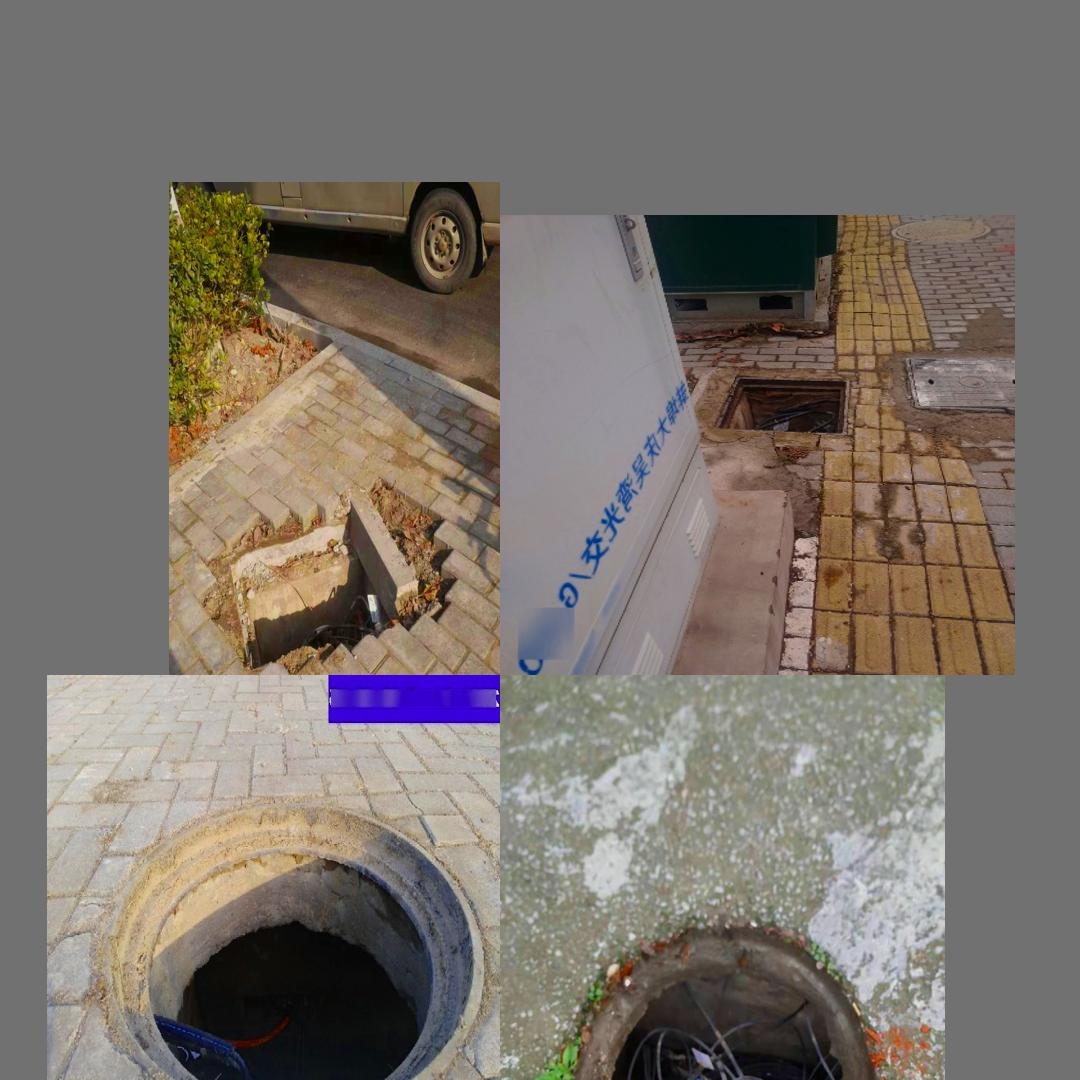lose: (105, 799, 485, 1080), (562, 919, 889, 1080), (228, 516, 435, 675), (700, 367, 858, 428)
